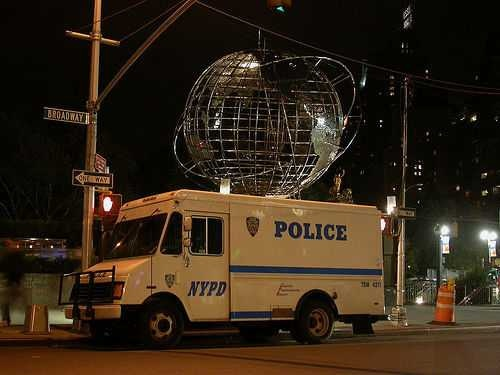Police Van: (65, 188, 392, 348)
